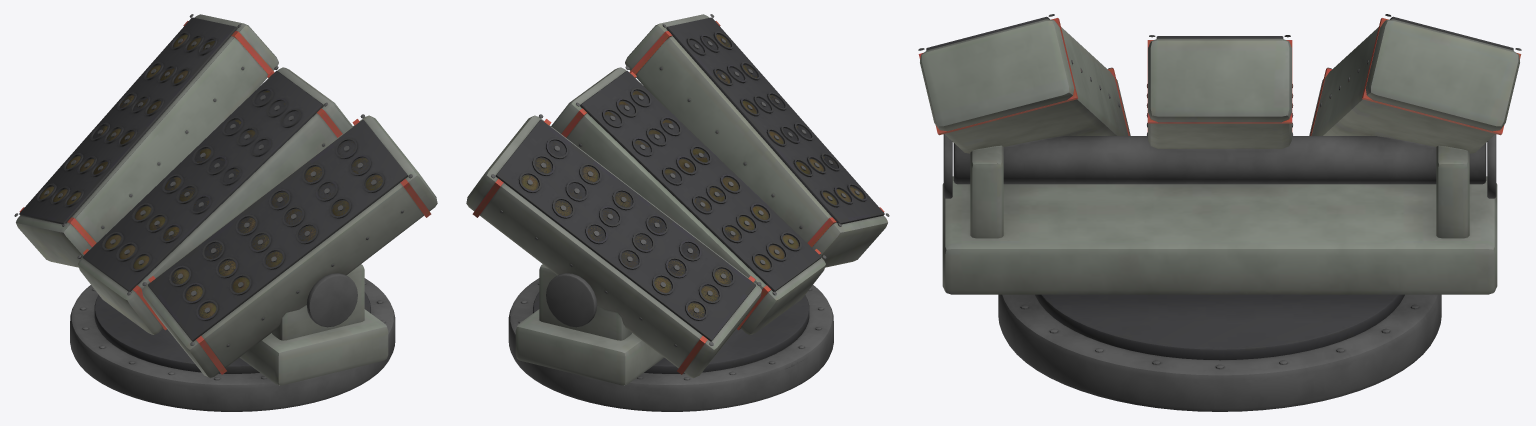
The model's file is flares_evo.glb.
3 views of the same model, side by side, from view 1: azimuth 30°, elevation 25°; view 2: azimuth 150°, elevation 25°; view 3: azimuth 270°, elevation 25° (orthographic). The views are drawn at different scales.
Parts seen in each view (by area): view 1: flares_evo; view 2: flares_evo; view 3: flares_evo.
Boxes of the visible parts, x1,y1,x2,y2 form: flares_evo: (14,14,437,411); flares_evo: (466,14,889,411); flares_evo: (918,14,1521,411).
Bounding box in the file's own units: 0.4 × 0.351 × 0.5441.
5 materials, 5 textured.
